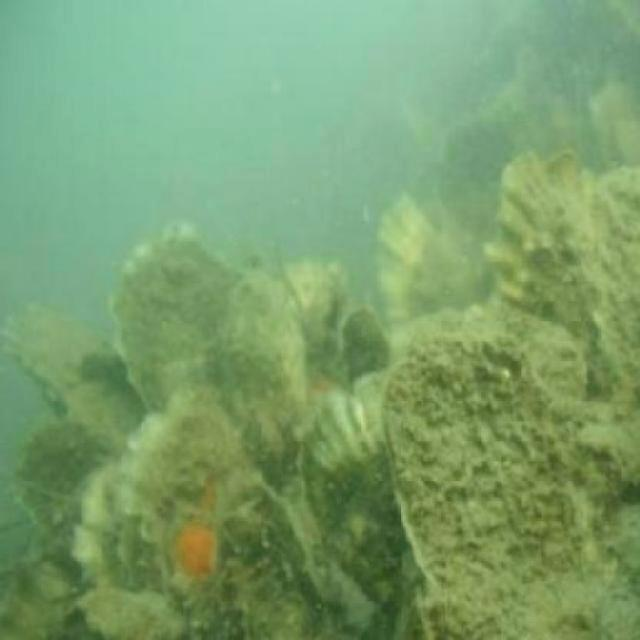Oyster-Closed: (375, 322, 615, 636), (70, 407, 319, 640), (108, 215, 296, 438), (478, 148, 590, 321), (0, 294, 114, 418), (364, 188, 436, 325)
